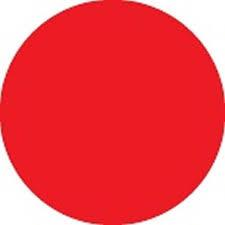red_circle: (3, 2, 225, 225)
